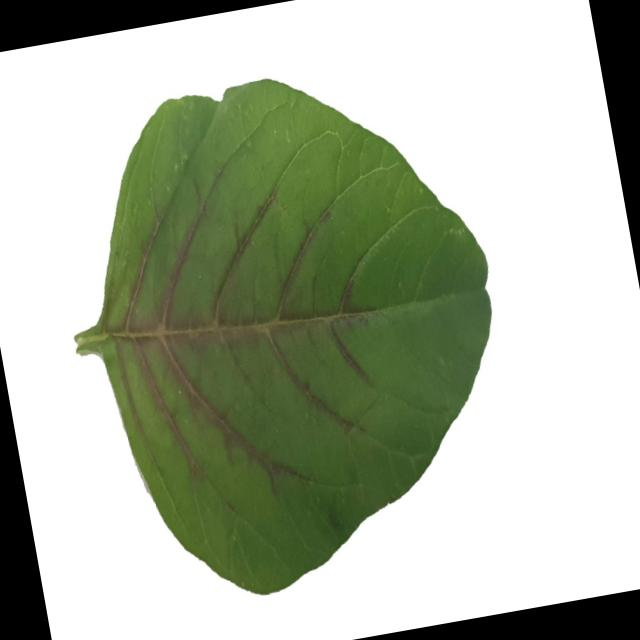Medicinal-Arive Dantu: (33, 46, 536, 620)
